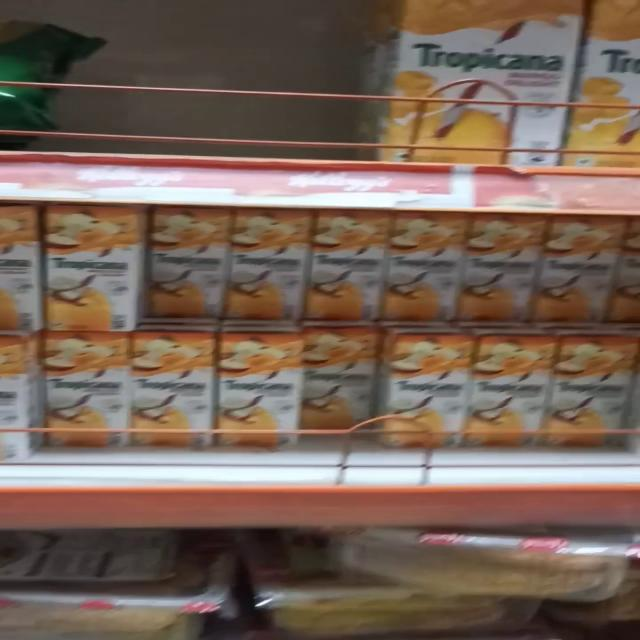Tropicana: (30, 191, 124, 329), (112, 330, 209, 452), (197, 328, 286, 454), (382, 329, 470, 452), (29, 331, 112, 454), (289, 326, 376, 442), (555, 332, 640, 448), (224, 196, 301, 324), (302, 199, 380, 321), (143, 199, 219, 320), (472, 331, 546, 452), (387, 208, 457, 325), (546, 208, 618, 320), (470, 204, 538, 322)
